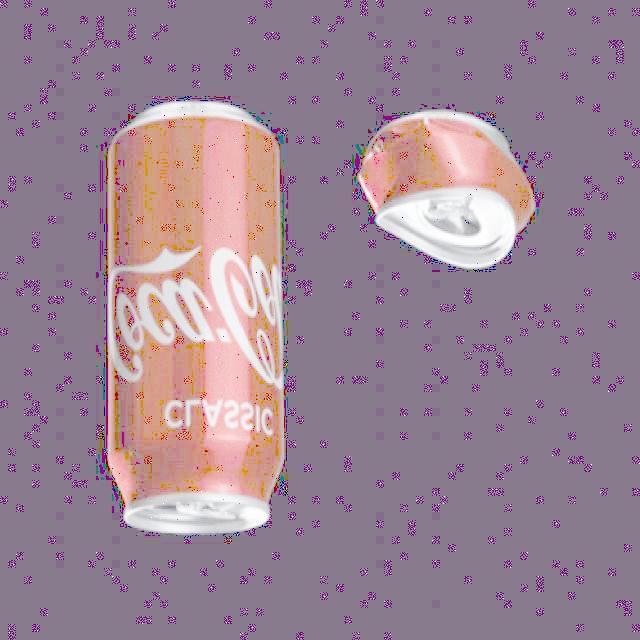cans: (69, 69, 320, 548), (376, 72, 542, 340)
